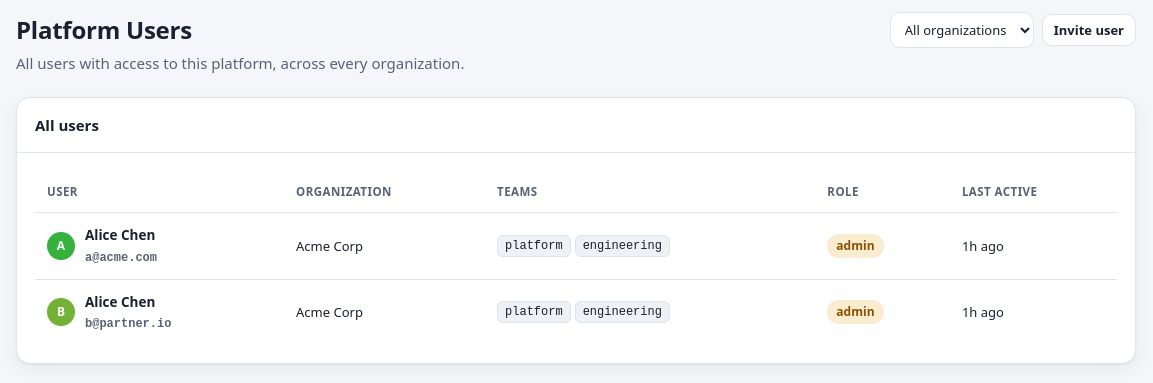
Test: PlatformUsersPage — org filter › filters to selected org when org filter is changed
Select "acme" in the dropdown with test id "org-filter" at {"x": 962, "y": 30}, box [890,12,1034,48]
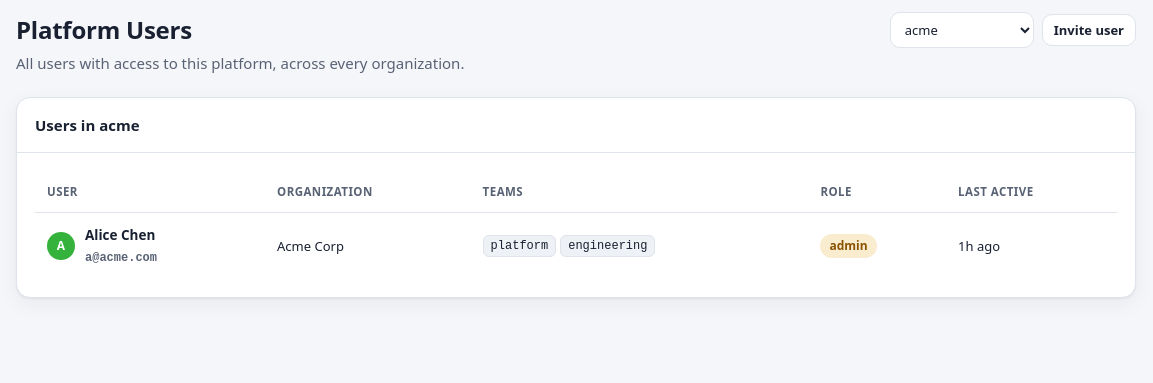
Expected: the text with test id "user-email" reads "a@acme.com", [85,250,157,264]
Result: the number of elements with test id "user-email" is 1 at [85,250,157,264]
